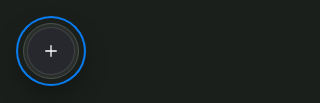
Scenario: BotaoAgoraPrincipal › segurar o "+" para agendar por voz › mostra o retorno visual enquanto segura e descreve o gesto para leitor de tela
Press the mouse on the button named "Adicionar" at (51, 51), box 23,23 -> 79,79
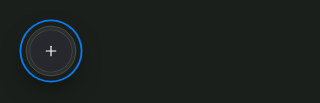
expect the button named "Adicionar" has attribute data-segurando="true": met, box 26,26 -> 76,76
